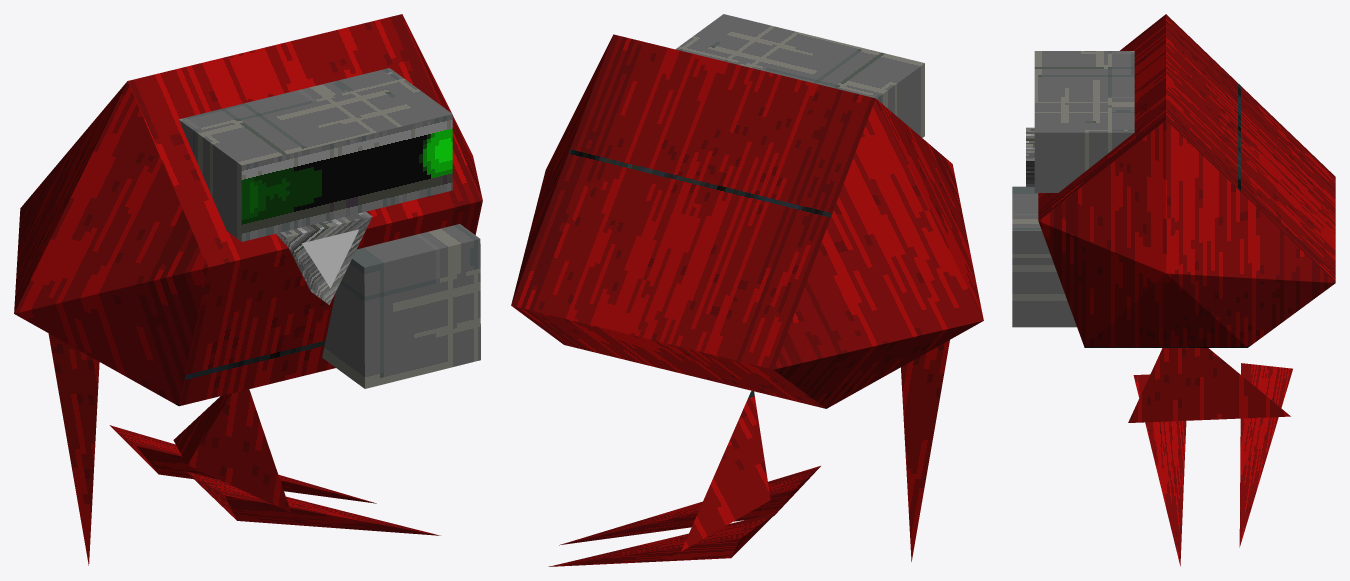
Rendered from model_015_robot_noname.glb.
3 views of the same model, side by side, from view 1: azimuth 30°, elevation 25°; view 2: azimuth 150°, elevation 25°; view 3: azimuth 270°, elevation 25° (orthographic). The views are drawn at different scales.
Parts seen in each view (by area): view 1: model_015; view 2: model_015; view 3: model_015.
Boxes of the visible parts, x1,y1,x2,y2 form: model_015: (14, 14, 482, 565); model_015: (511, 14, 983, 566); model_015: (1012, 14, 1335, 566).
Bounding box in the file's own units: 6.05 × 6.81 × 4.67.
Materials: 6 (5 with a texture image).
